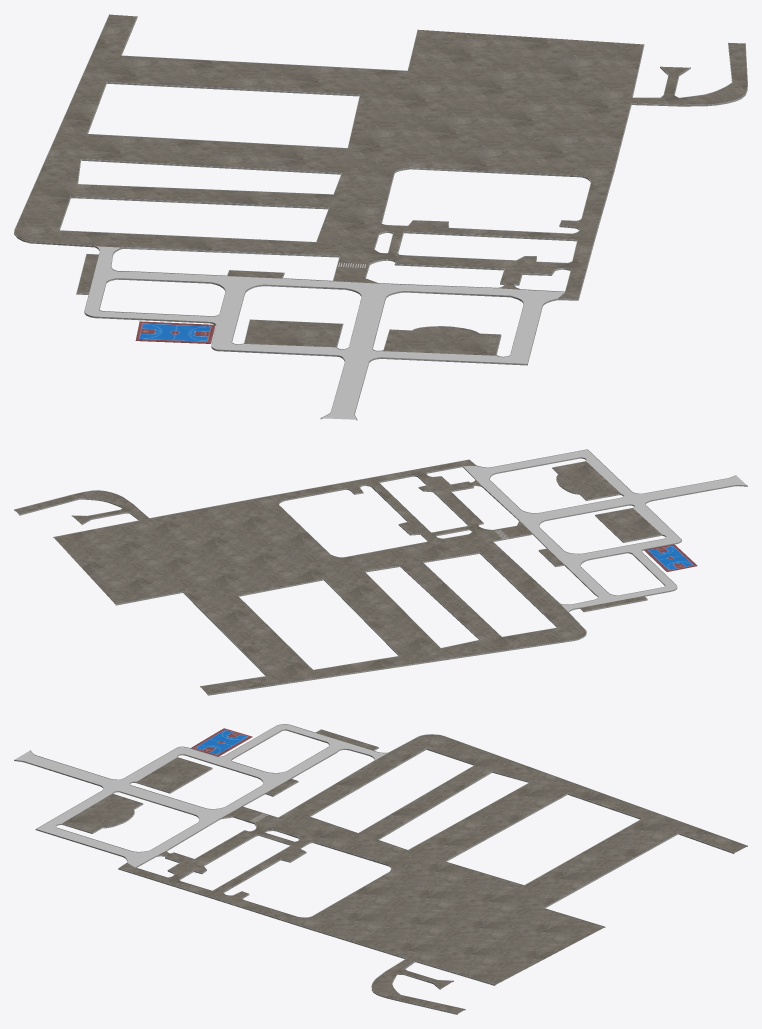
File: road_p02_01.fbx
3 views of the same model, one above another, from view 1: azimuth 30°, elevation 25°; view 2: azimuth 150°, elevation 25°; view 3: azimuth 270°, elevation 25° (orthographic). The views are drawn at different scales.
Visible parts, largest first — view 1: road_p02_01; view 2: road_p02_01; view 3: road_p02_01.
Boxes of the visible parts, x1=… form: road_p02_01: x1=14, y1=14, x2=747, y2=420; road_p02_01: x1=14, y1=449, x2=747, y2=695; road_p02_01: x1=14, y1=724, x2=747, y2=1014.
Size of the model in its own units: 37069 by 70.04 by 39679.
